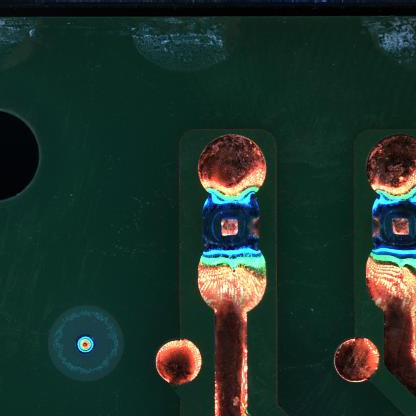spot: (201, 187, 262, 258), (368, 190, 415, 261)
